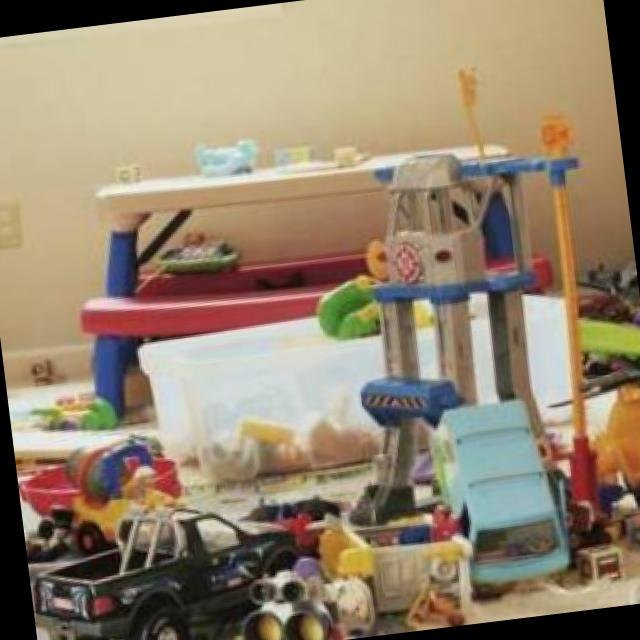mess: (11, 351, 640, 640), (80, 88, 403, 338), (0, 308, 137, 500), (554, 245, 640, 406)
